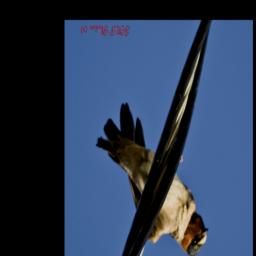Swallow: (95, 101, 210, 256)
